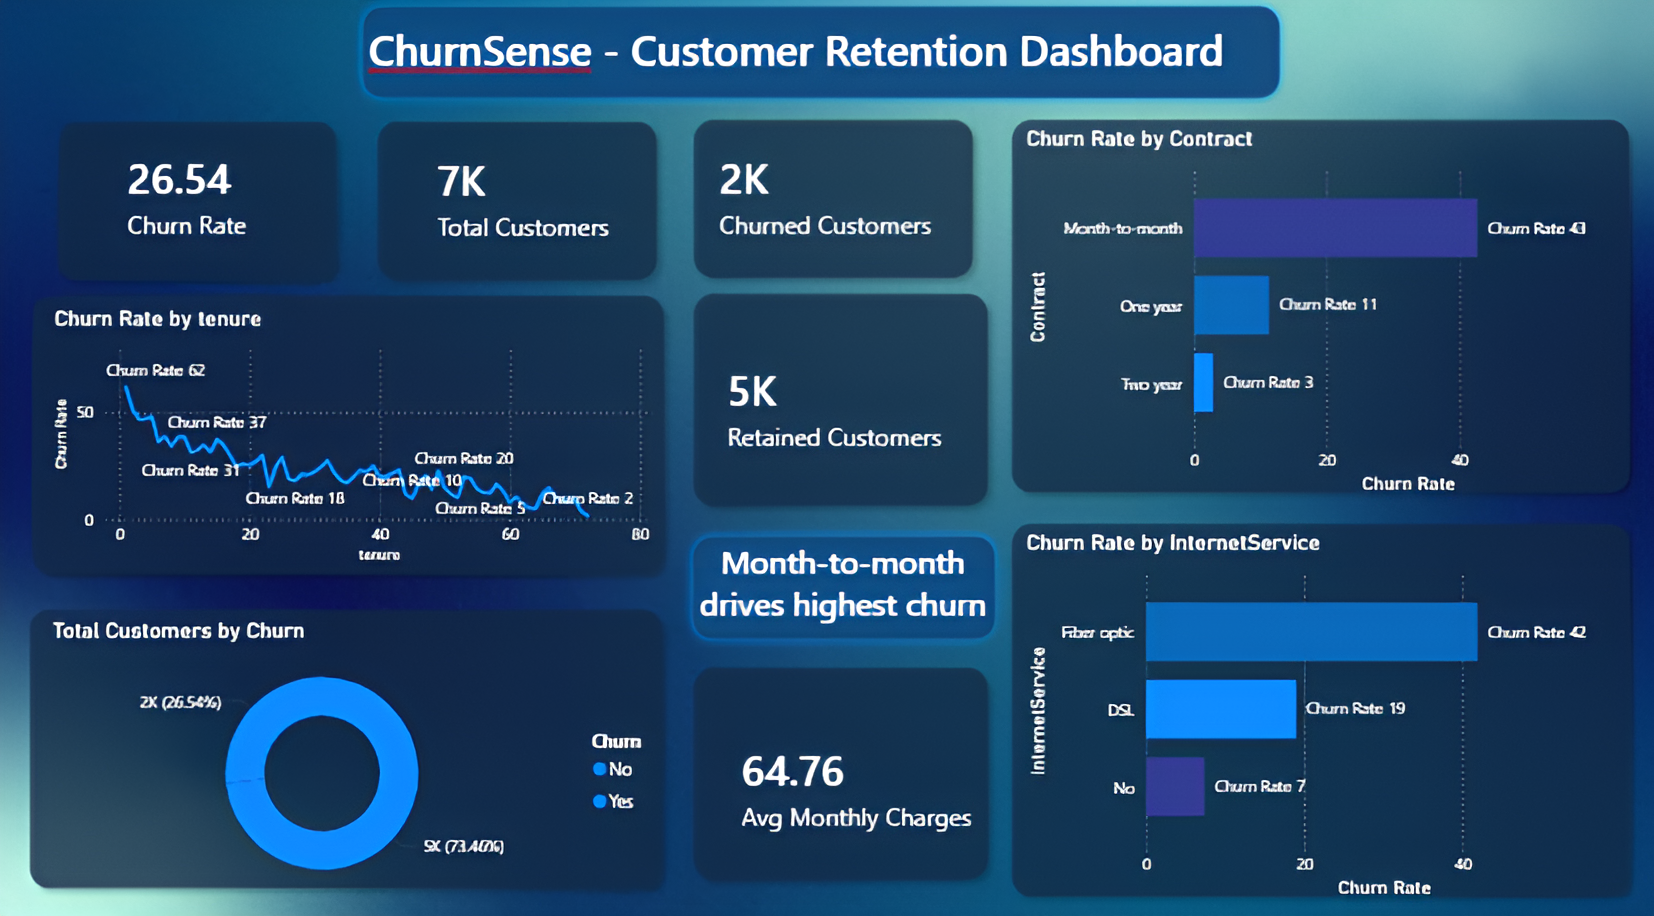

The page's visual inventory and layout, read from the dashboard file:
{"tool":"powerbi","page":{"name":"Page 1","canvas":[1280,720],"ordinal":0},"visuals":[{"type":"shape","box":[771.7,88.3,493.3,305],"z":0},{"type":"shape","box":[274.2,1.7,721.7,86.7],"z":1000},{"type":"textbox","box":[280.8,15,708.3,78.3],"z":2000},{"type":"shape","box":[38.6,89.1,232.8,140.6],"z":3000},{"type":"cardVisual","fields":{"Data":["churn_clean.Churn Rate"]},"box":[71.8,85,233.3,140],"z":4000},{"type":"clusteredBarChart","fields":{"Category":["churn_clean.Contract"],"Y":["churn_clean.Churn Rate"]},"box":[788.3,101.7,476.7,288.3],"z":5000},{"type":"shape","box":[283.9,89,233.3,140],"z":6000},{"type":"cardVisual","fields":{"Data":["churn_clean.Total Customers"]},"box":[311.4,85.7,233.3,140],"z":7000},{"type":"shape","box":[528.3,88.3,233.3,140],"z":8000},{"type":"cardVisual","fields":{"Data":["churn_clean.Churned Customers"]},"box":[528.3,85,233.3,140],"z":9000},{"type":"shape","box":[771.7,398.3,493.3,305],"z":10000},{"type":"clusteredBarChart","fields":{"Category":["churn_clean.InternetService"],"Y":["churn_clean.Churn Rate"]},"box":[788.3,411.7,476.7,288.3],"z":11000},{"type":"shape","box":[18.8,223.4,504.7,232.8],"z":12000},{"type":"shape","box":[527.7,222,244.6,181.5],"z":13000},{"type":"shape","box":[16.9,464.1,504.7,232.8],"z":14000},{"type":"lineChart","fields":{"Category":["churn_clean.tenure"],"Y":["churn_clean.Churn Rate"]},"box":[40.6,240.6,470.3,203.1],"z":15000},{"type":"donutChart","fields":{"Category":["churn_clean.Churn"],"Y":["churn_clean.Total Customers"]},"box":[38.8,479.7,482.8,220.3],"z":16000},{"type":"cardVisual","fields":{"Data":["churn_clean.Retained Customers"]},"box":[533.8,235.8,243.1,163.1],"z":17000},{"type":"shape","box":[527.7,509.8,244.6,181.5],"z":18000},{"type":"cardVisual","fields":{"Data":["churn_clean.Avg Monthly Charges"]},"box":[544.6,528.2,243.1,163.1],"z":19000},{"type":"shape","box":[527.7,409.2,249.2,95.4],"z":20000},{"type":"textbox","box":[535.4,415.4,232.3,73.8],"z":21000}]}

Visuals, with their boxes in screenshot pixels (x1, y1, x2, y2), scaled from the page's 1280x720 canvas onto the 1654x916 screenshot:
shape: box=[997, 112, 1635, 500]
shape: box=[354, 2, 1287, 112]
textbox: box=[363, 19, 1278, 119]
shape: box=[50, 113, 351, 292]
cardVisual - churn_clean.Churn Rate: box=[93, 108, 394, 286]
clusteredBarChart - churn_clean.Contract x churn_clean.Churn Rate: box=[1019, 129, 1635, 496]
shape: box=[367, 113, 668, 291]
cardVisual - churn_clean.Total Customers: box=[402, 109, 704, 287]
shape: box=[683, 112, 984, 290]
cardVisual - churn_clean.Churned Customers: box=[683, 108, 984, 286]
shape: box=[997, 507, 1635, 895]
clusteredBarChart - churn_clean.InternetService x churn_clean.Churn Rate: box=[1019, 524, 1635, 891]
shape: box=[24, 284, 676, 580]
shape: box=[682, 282, 998, 513]
shape: box=[22, 590, 674, 887]
lineChart - churn_clean.tenure x churn_clean.Churn Rate: box=[52, 306, 660, 564]
donutChart - churn_clean.Churn x churn_clean.Total Customers: box=[50, 610, 674, 891]
cardVisual - churn_clean.Retained Customers: box=[690, 300, 1004, 507]
shape: box=[682, 649, 998, 879]
cardVisual - churn_clean.Avg Monthly Charges: box=[704, 672, 1018, 879]
shape: box=[682, 521, 1004, 642]
textbox: box=[692, 528, 992, 622]
